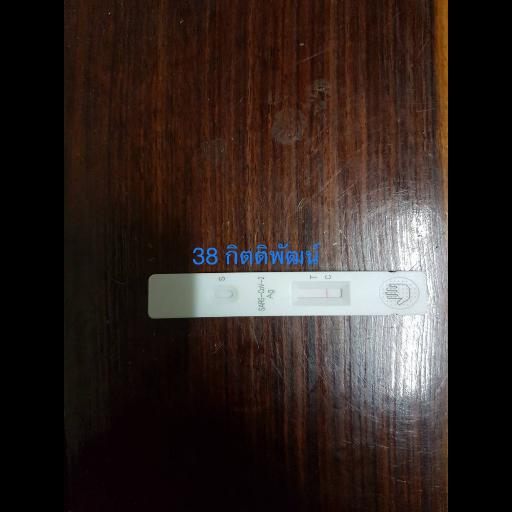Neg: (148, 274, 426, 314)
